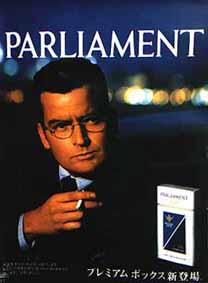cigarette: (71, 195, 93, 217)
